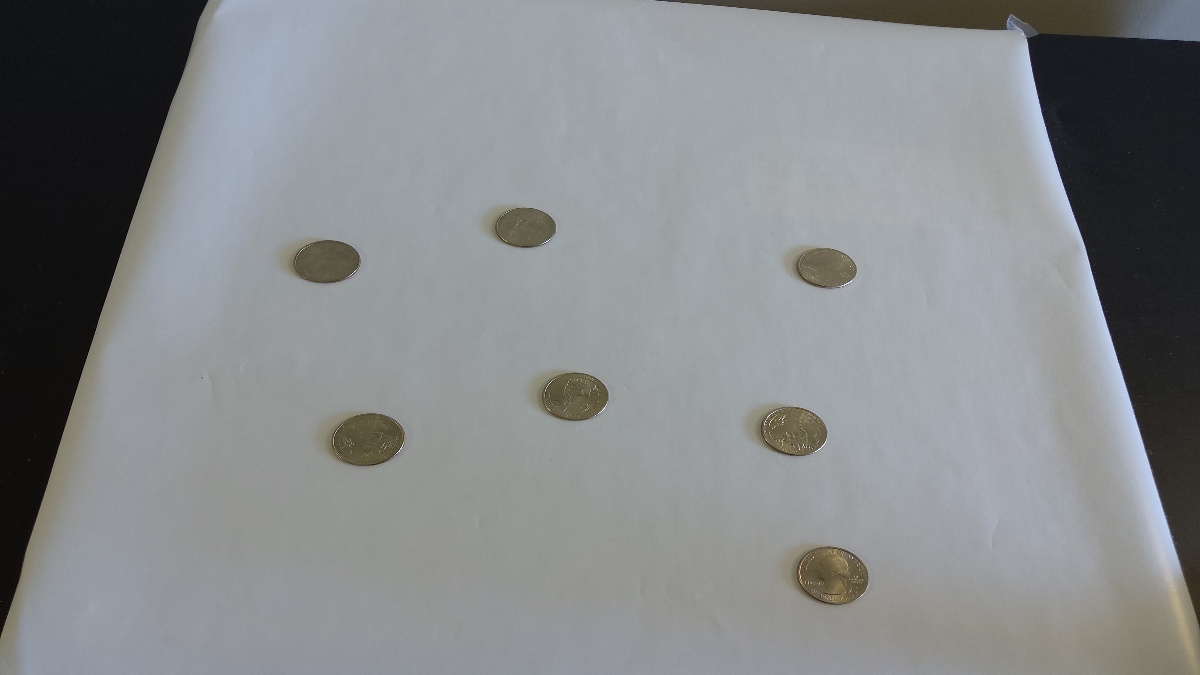coin_quarter: (322, 395, 416, 475), (790, 533, 876, 614), (534, 361, 618, 429), (282, 228, 371, 291), (753, 399, 833, 462), (789, 240, 869, 300), (490, 201, 562, 255)
